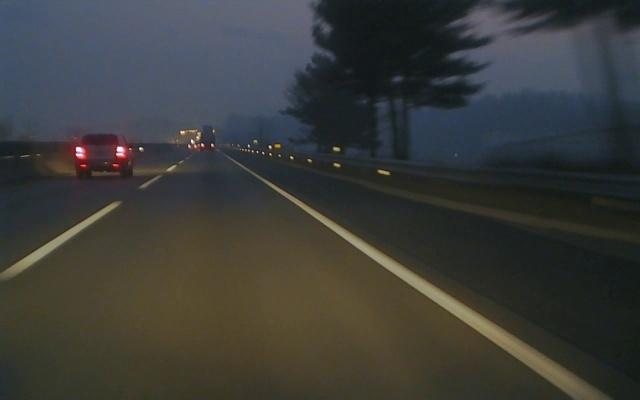lane: (245, 167, 616, 399), (2, 156, 191, 280), (335, 174, 640, 248)
